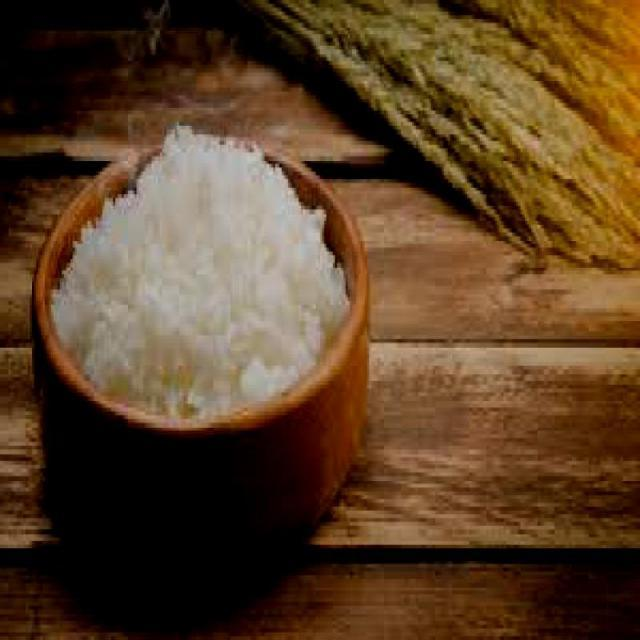rice: (49, 126, 348, 425)
